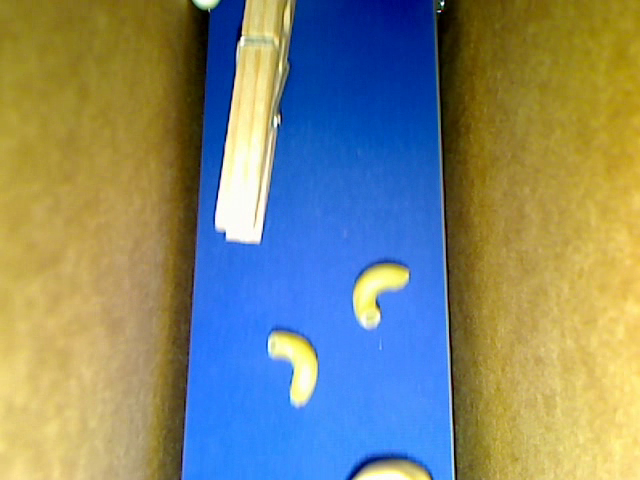elbow: (266, 329, 318, 409), (352, 262, 411, 330)
